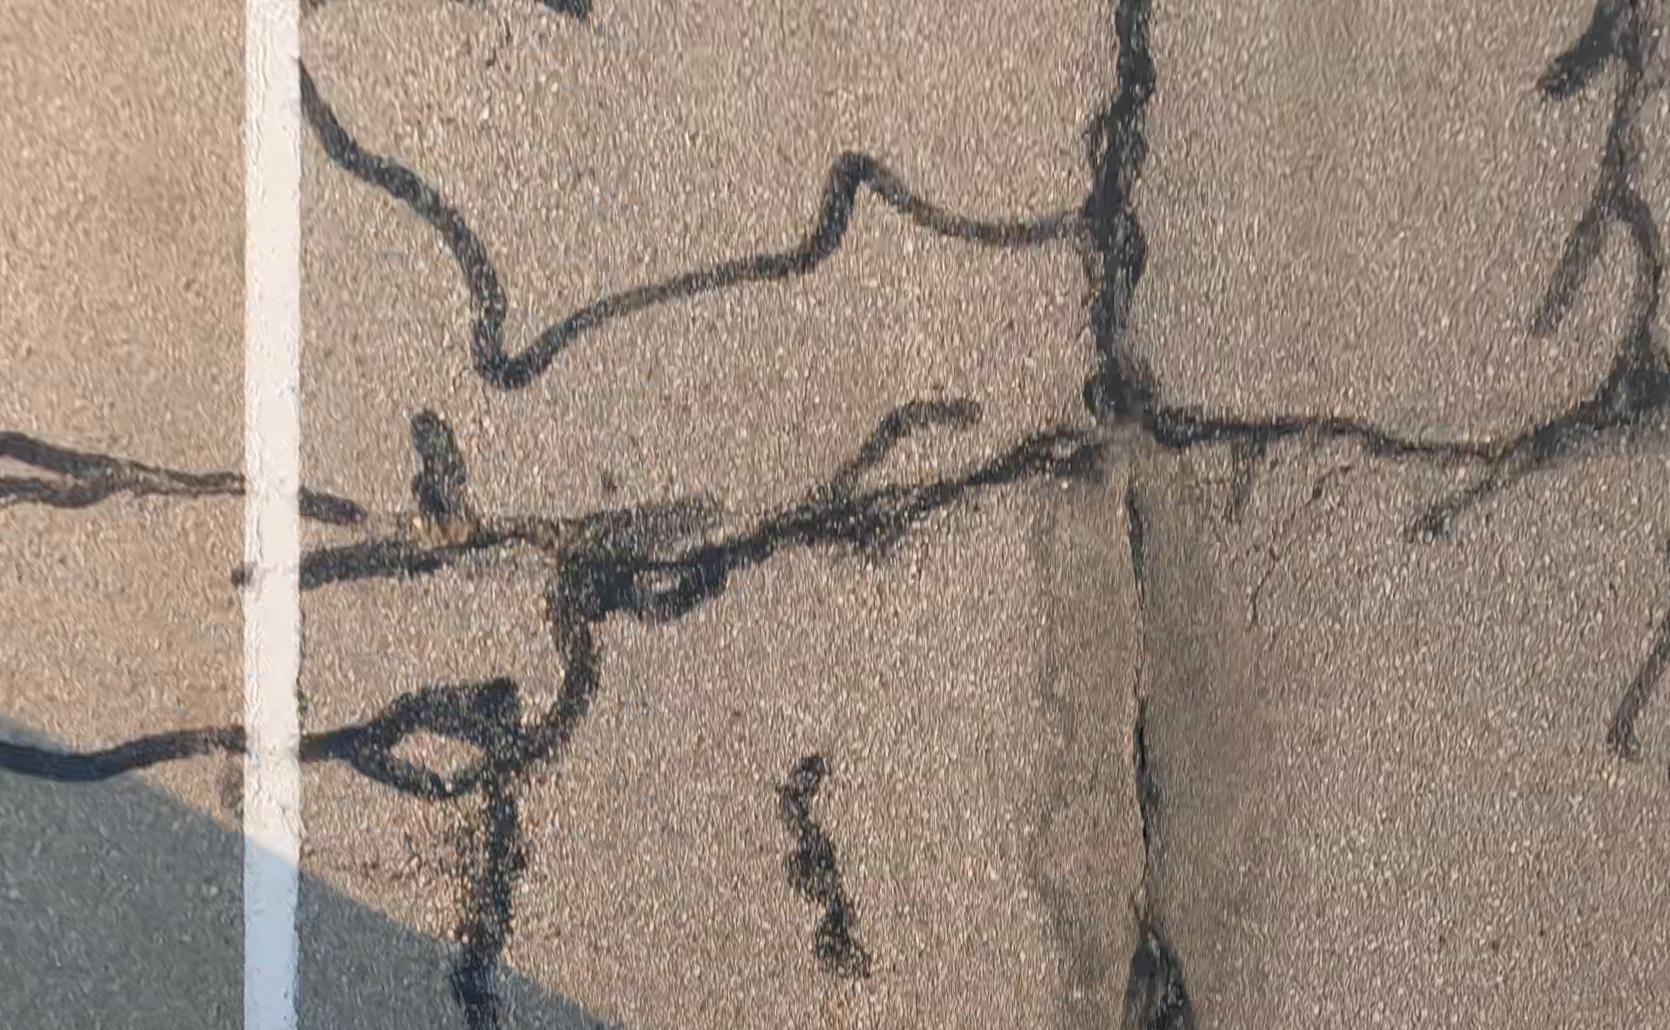pothole_patch_poor: (1022, 417, 1274, 1011)
